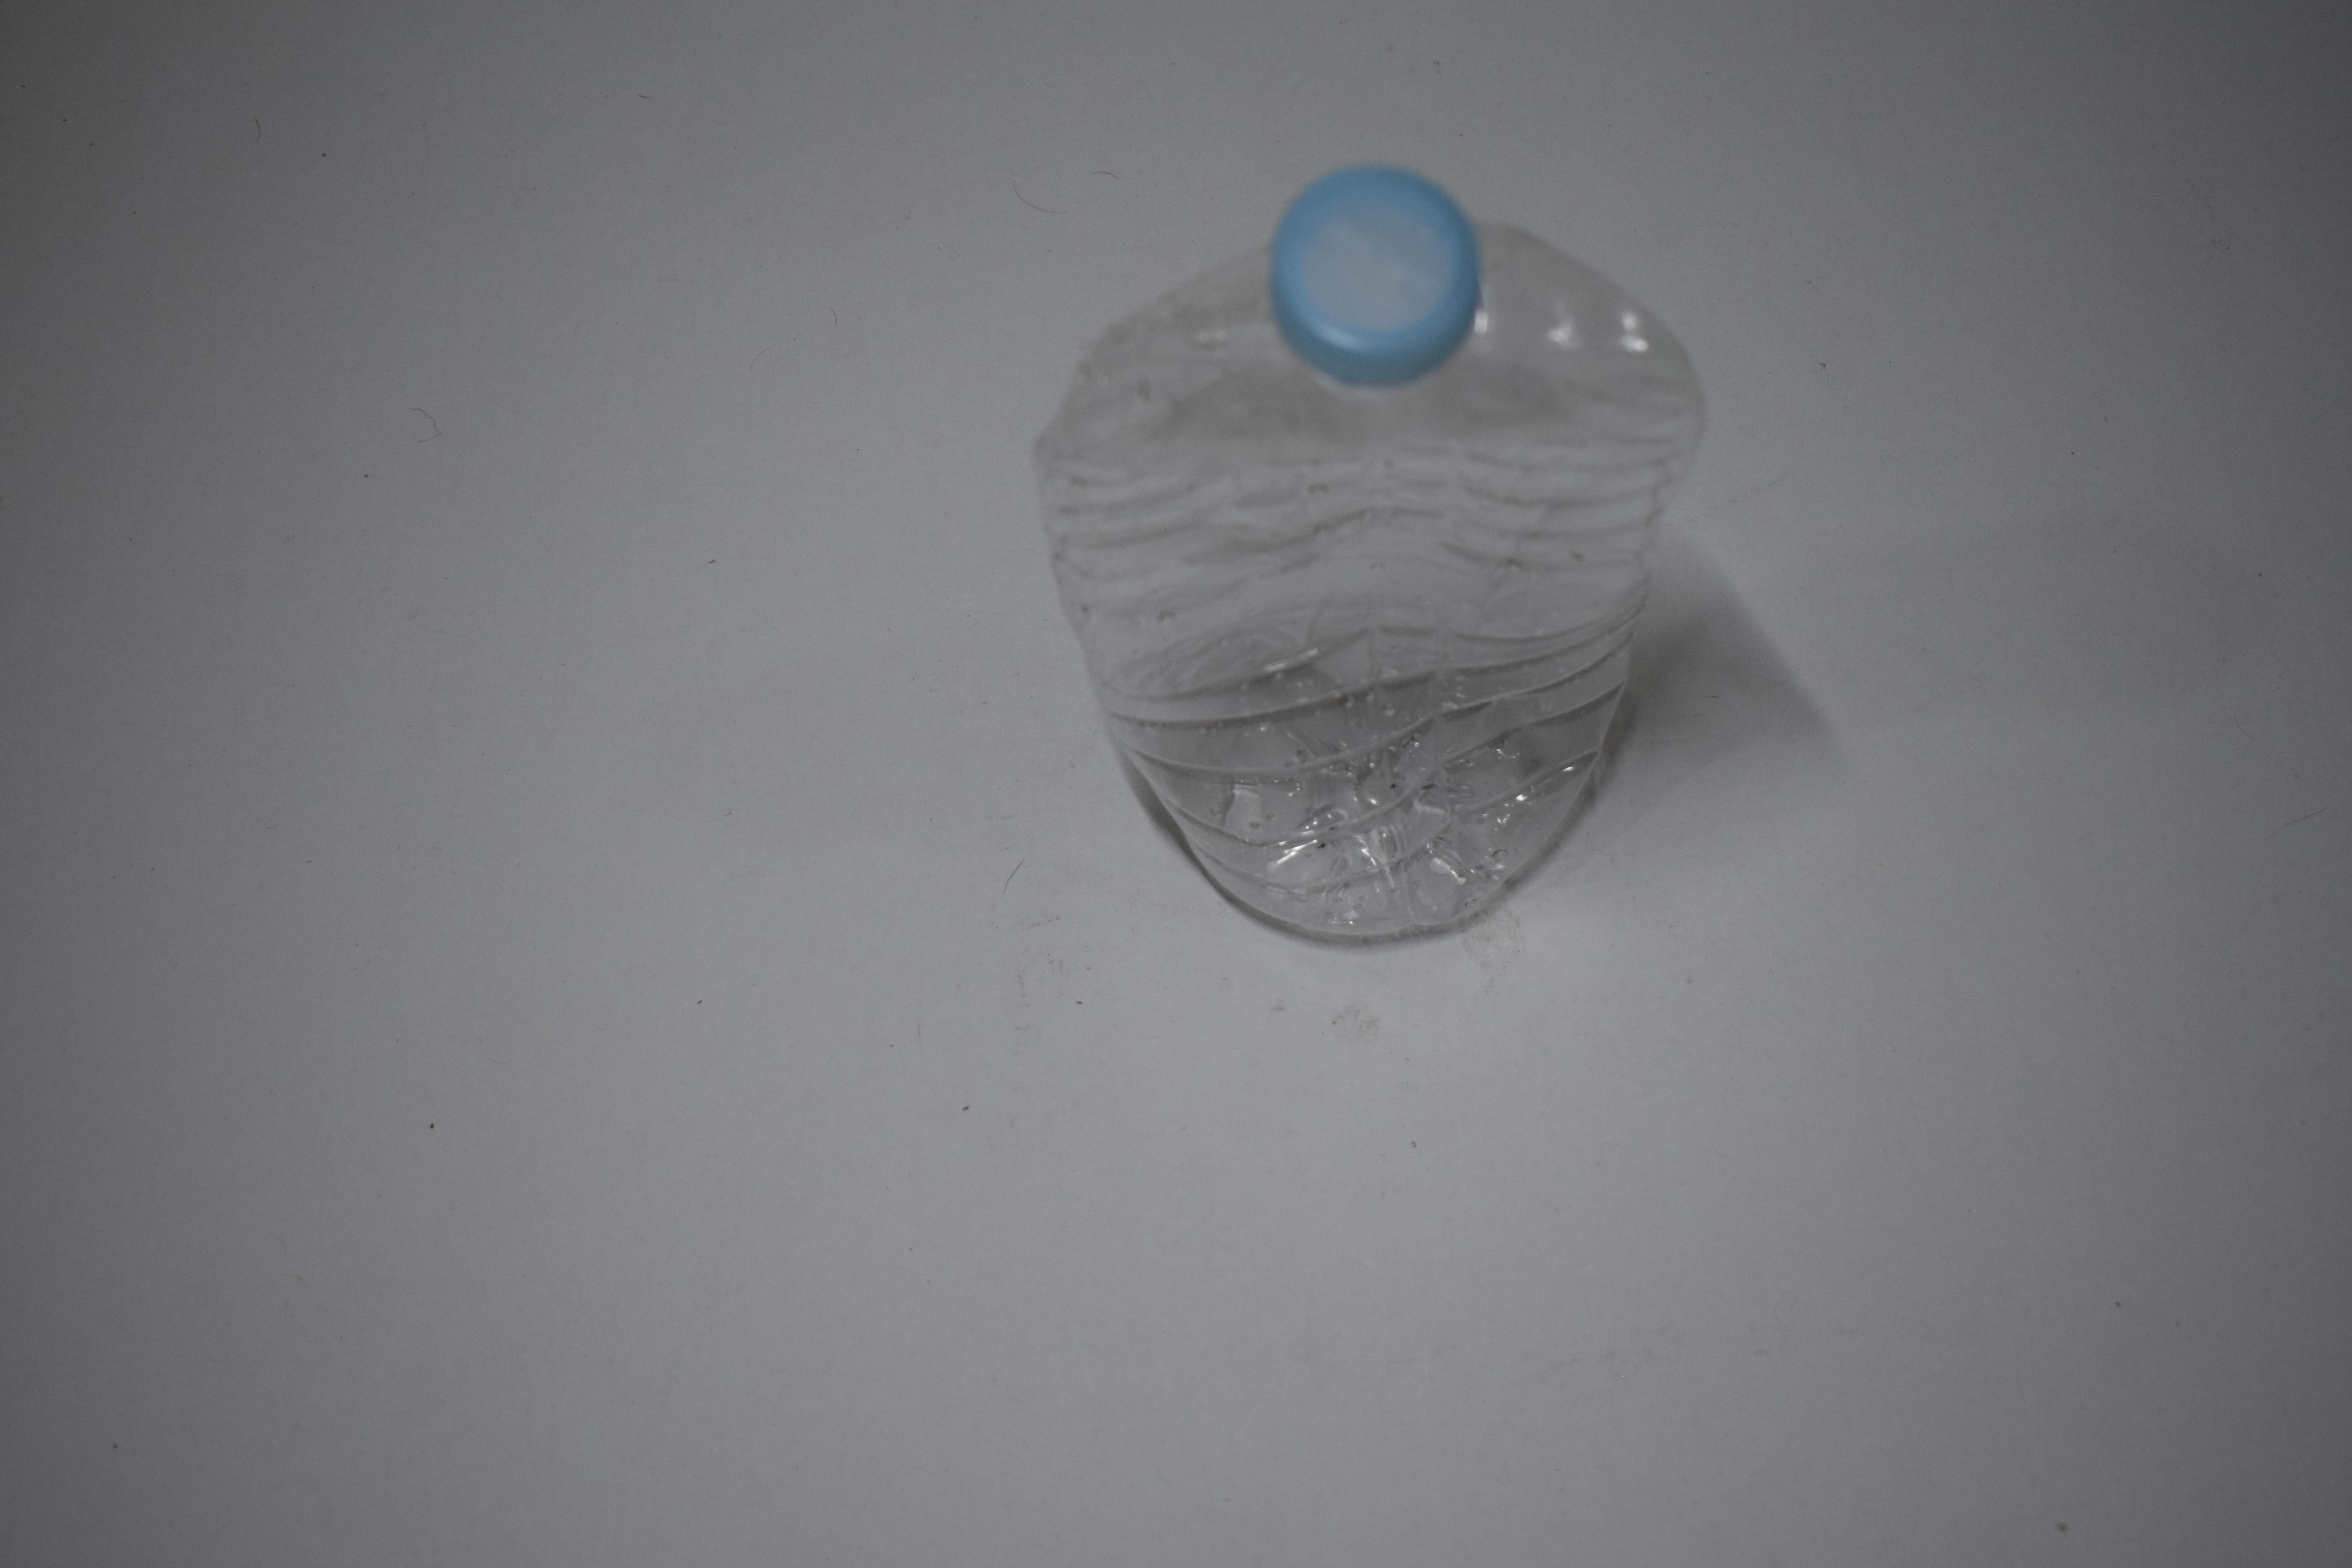bottle: (0, 462, 525, 481)
